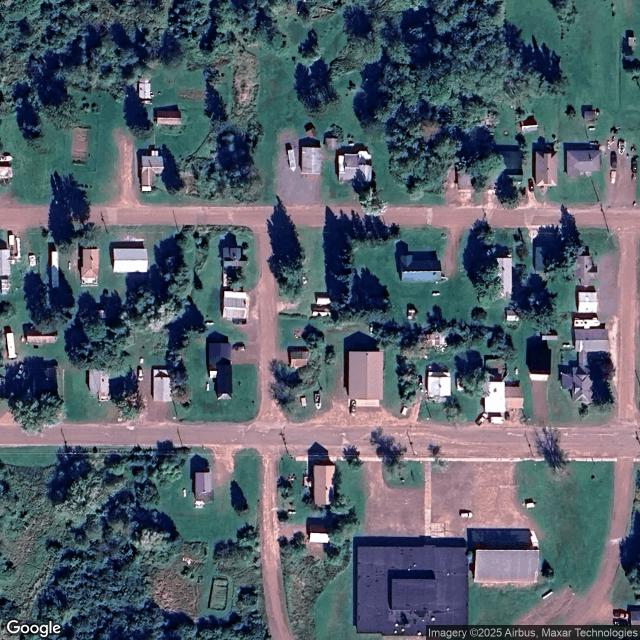Propane: (542, 590, 554, 600), (432, 292, 441, 297), (183, 489, 187, 497), (206, 383, 210, 391), (288, 511, 296, 514), (68, 262, 71, 270), (206, 322, 214, 325), (563, 344, 571, 347), (515, 368, 518, 375)
